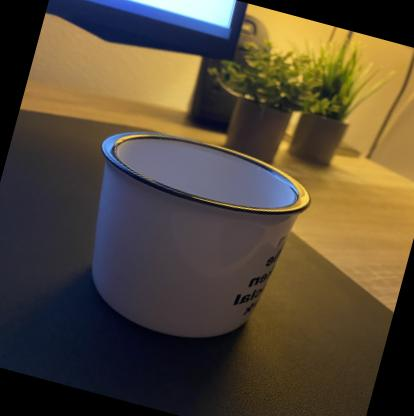Cup: (56, 115, 320, 366)
